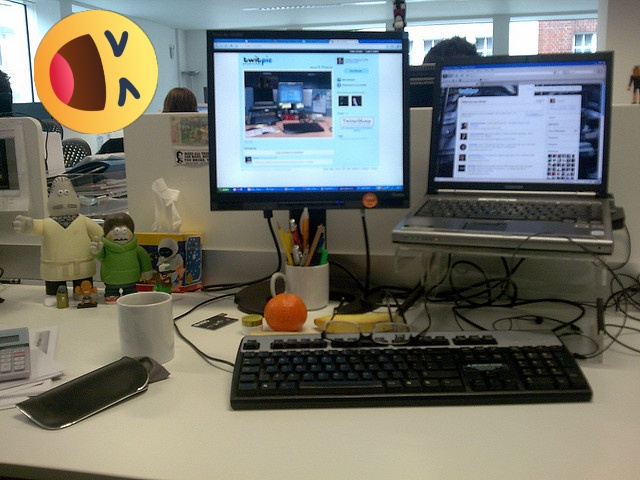haha: (34, 10, 158, 134)
